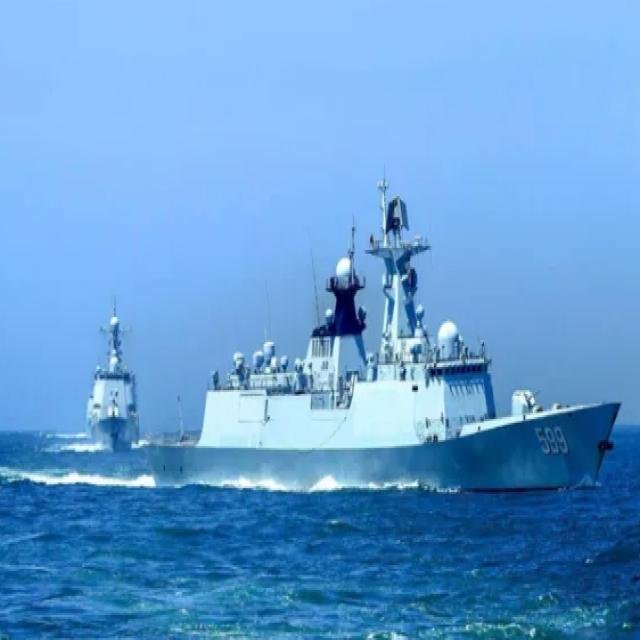navalvessels: (153, 178, 624, 526), (61, 286, 173, 482)
